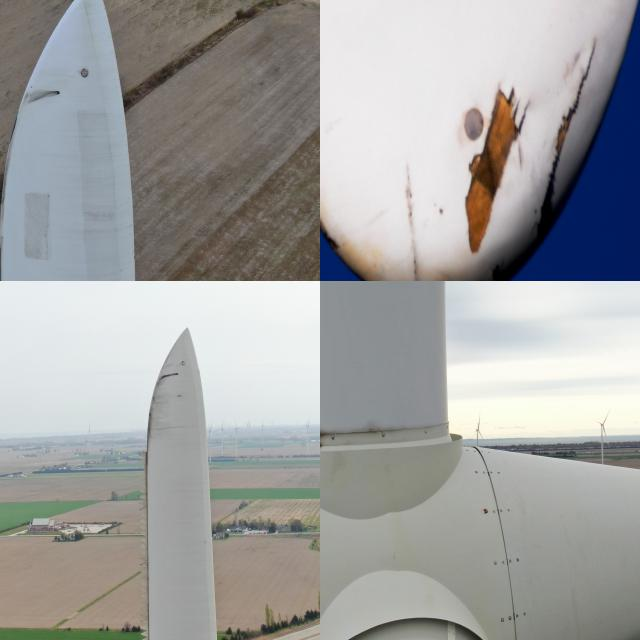damage: (422, 0, 604, 280), (24, 86, 60, 102), (156, 369, 178, 383), (55, 88, 59, 95)
